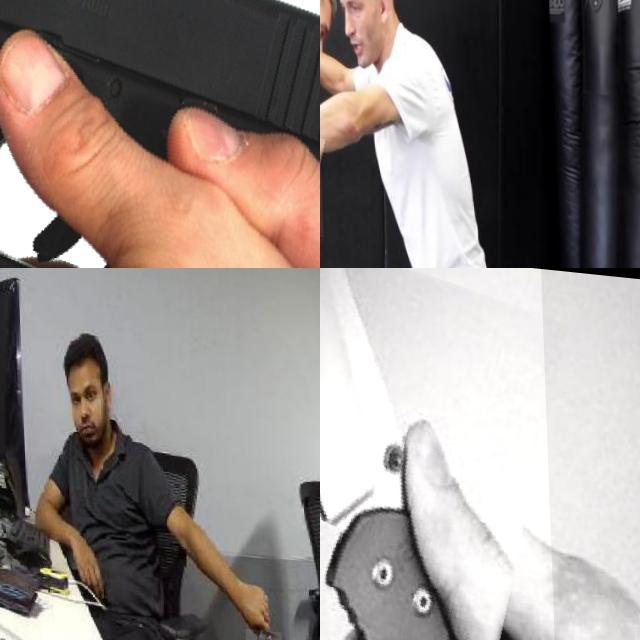-: (320, 268, 554, 640), (320, 108, 371, 231), (241, 622, 279, 640)
gun-knife-thesis - v11 Yolov5 augmented: (0, 0, 320, 268)
